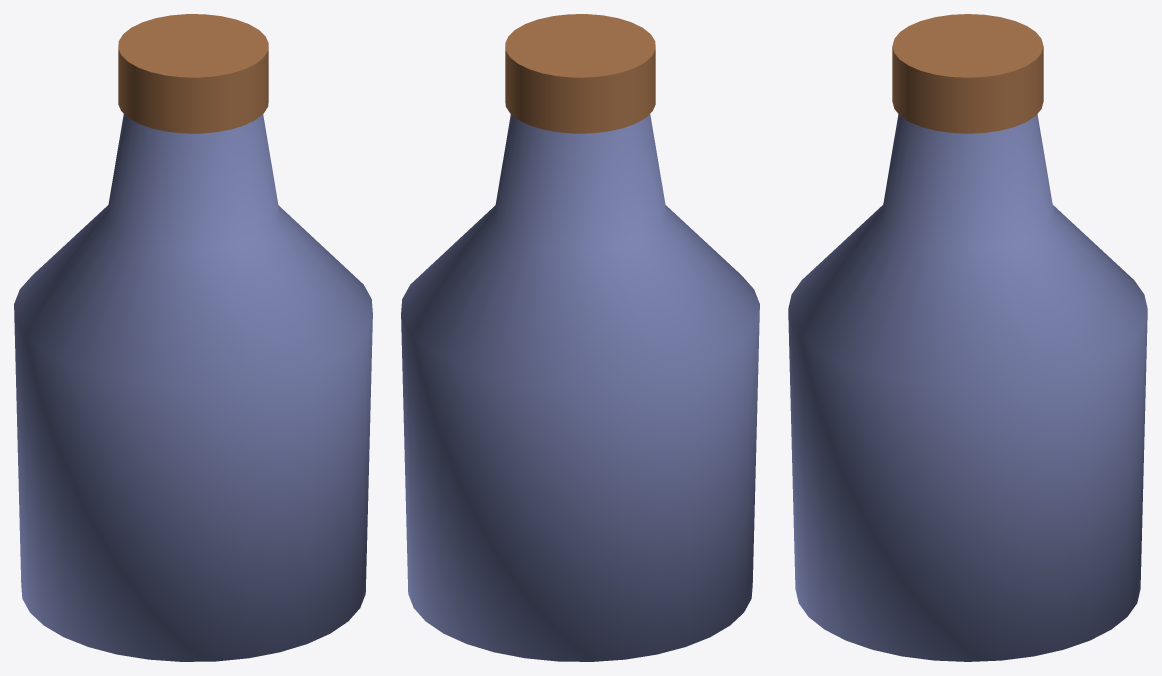
File: wp-fiole-de-potion.glb
3 renders of one model, left to right at view 1: azimuth 30°, elevation 25°; view 2: azimuth 150°, elevation 25°; view 3: azimuth 270°, elevation 25°, orthographic.
Visible parts, largest first — view 1: wp-fiole-de-potion; view 2: wp-fiole-de-potion; view 3: wp-fiole-de-potion.
Part boxes in pixels (x1=…): wp-fiole-de-potion: x1=14, y1=14, x2=372, y2=661; wp-fiole-de-potion: x1=401, y1=14, x2=759, y2=661; wp-fiole-de-potion: x1=788, y1=14, x2=1147, y2=661.
Bounding box in the file's own units: 0.12 × 0.2 × 0.12.
